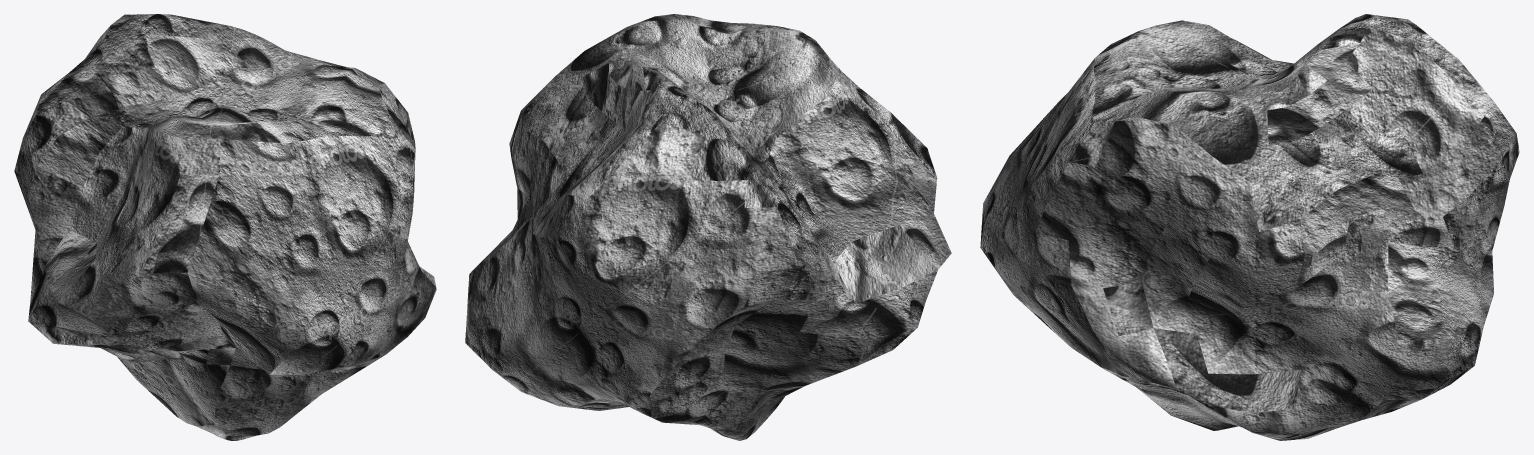
Rendered from asteroide_9.FBX.
The picture shows the model from 3 angles, left to right: view 1: azimuth 30°, elevation 25°; view 2: azimuth 150°, elevation 25°; view 3: azimuth 270°, elevation 25°; orthographic projection. The views are drawn at different scales.
Visible parts, largest first — view 1: asteroide_1; view 2: asteroide_1; view 3: asteroide_1.
Part boxes in pixels (<box>): asteroide_1: <box>14,14,436,440</box>; asteroide_1: <box>465,14,951,440</box>; asteroide_1: <box>980,14,1519,440</box>.
Size of the model in its own units: 629 by 578 by 696.
Materials: 1 (1 with a texture image).
